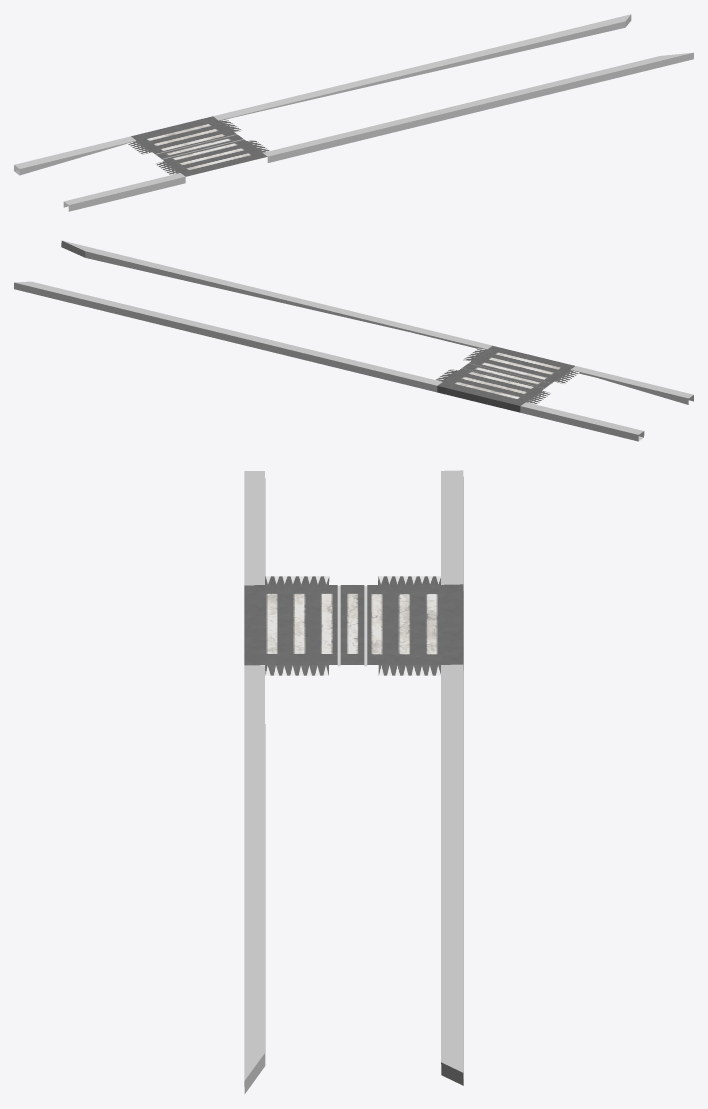
Rendered from Trottoir_D.fbx.
3 renders of one model, top to bottom at view 1: azimuth 30°, elevation 25°; view 2: azimuth 150°, elevation 25°; view 3: azimuth 270°, elevation 25°, orthographic. The views are drawn at different scales.
Parts seen in each view (by area): view 1: Trottoir_D; view 2: Trottoir_D; view 3: Trottoir_D.
Boxes of the visible parts, x1,y1,x2,y2 form: Trottoir_D: (14,14,693,211); Trottoir_D: (14,240,693,441); Trottoir_D: (244,470,463,1093).
Bounding box in the file's own units: 1744 × 123 × 11480.
